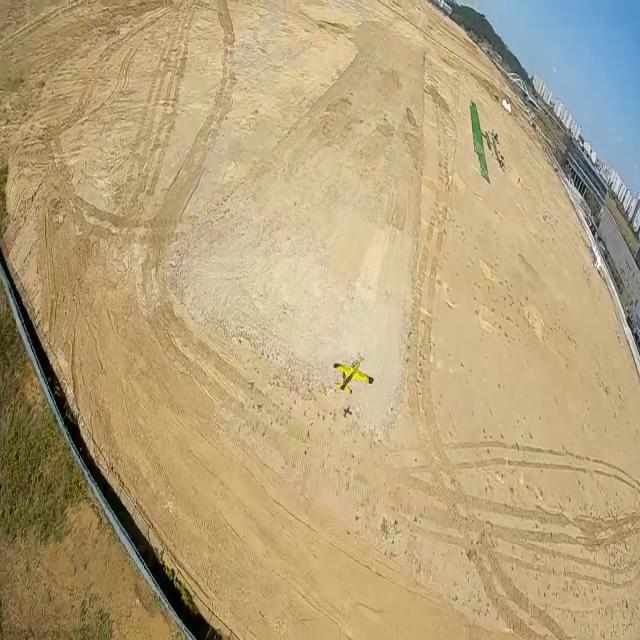iha: (330, 358, 385, 415)
